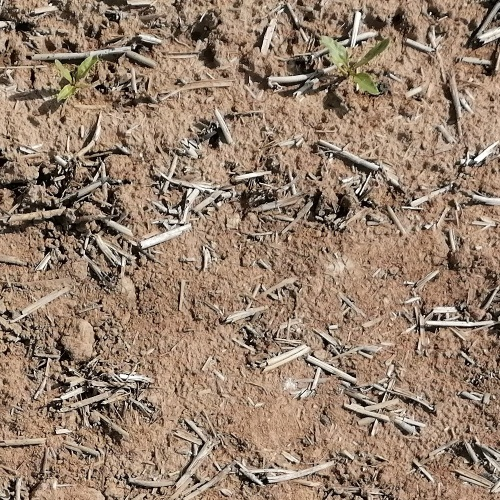beet: (319, 36, 392, 96), (54, 53, 99, 101)
